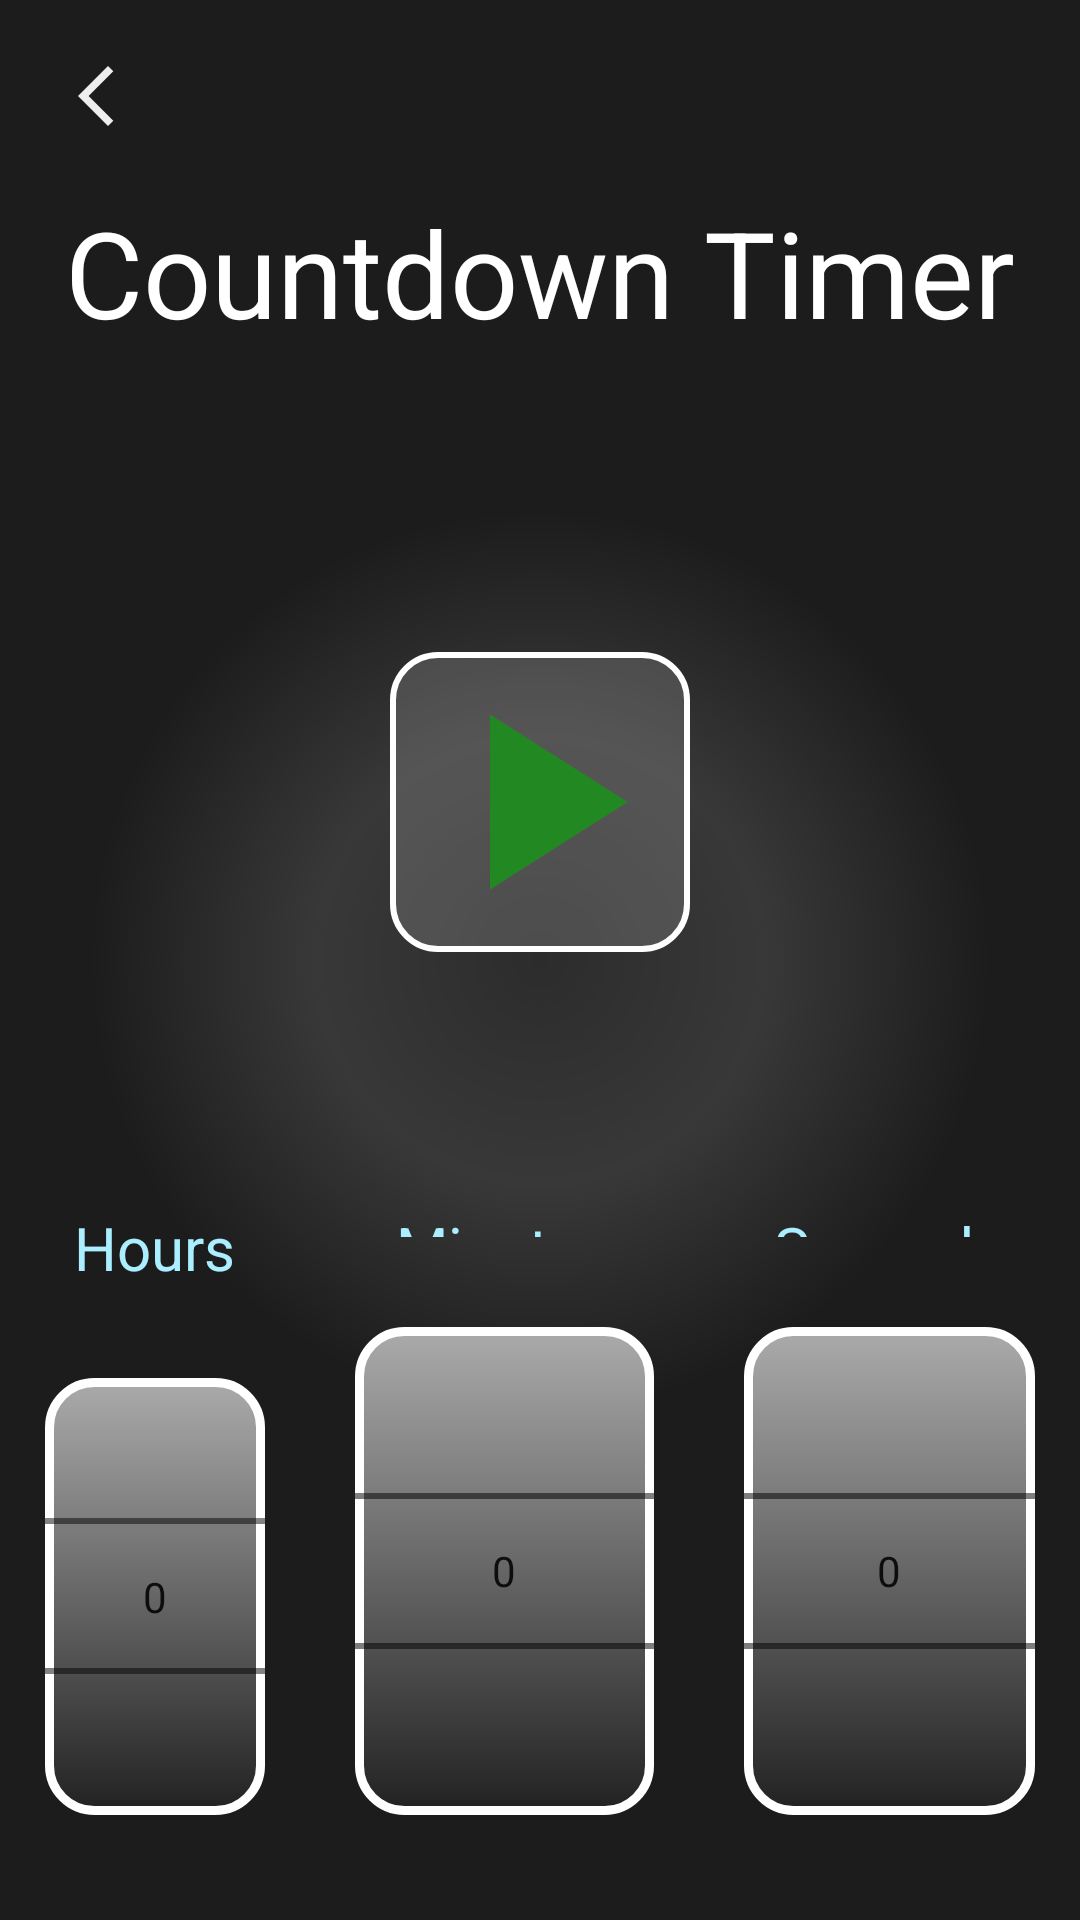

Where to tap for icons on this 1080x1920 app screen, as [x,y]:
arrow back: [95,96]
play: [540,802]
